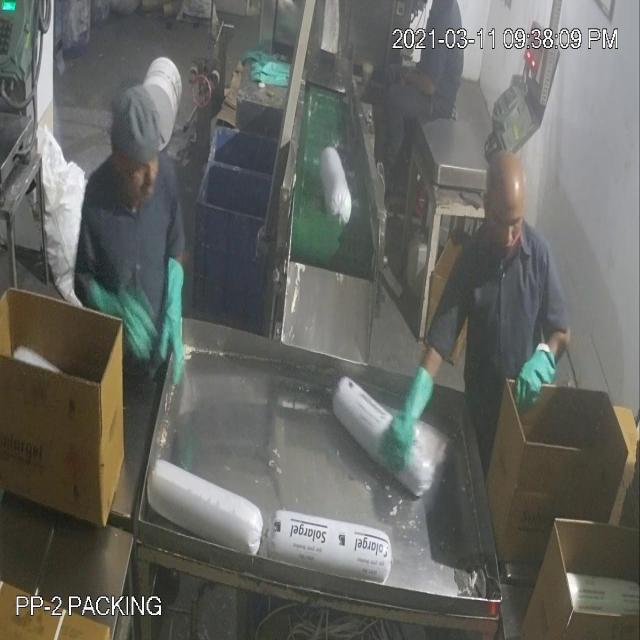No_Gloves: (38, 54, 531, 420)
